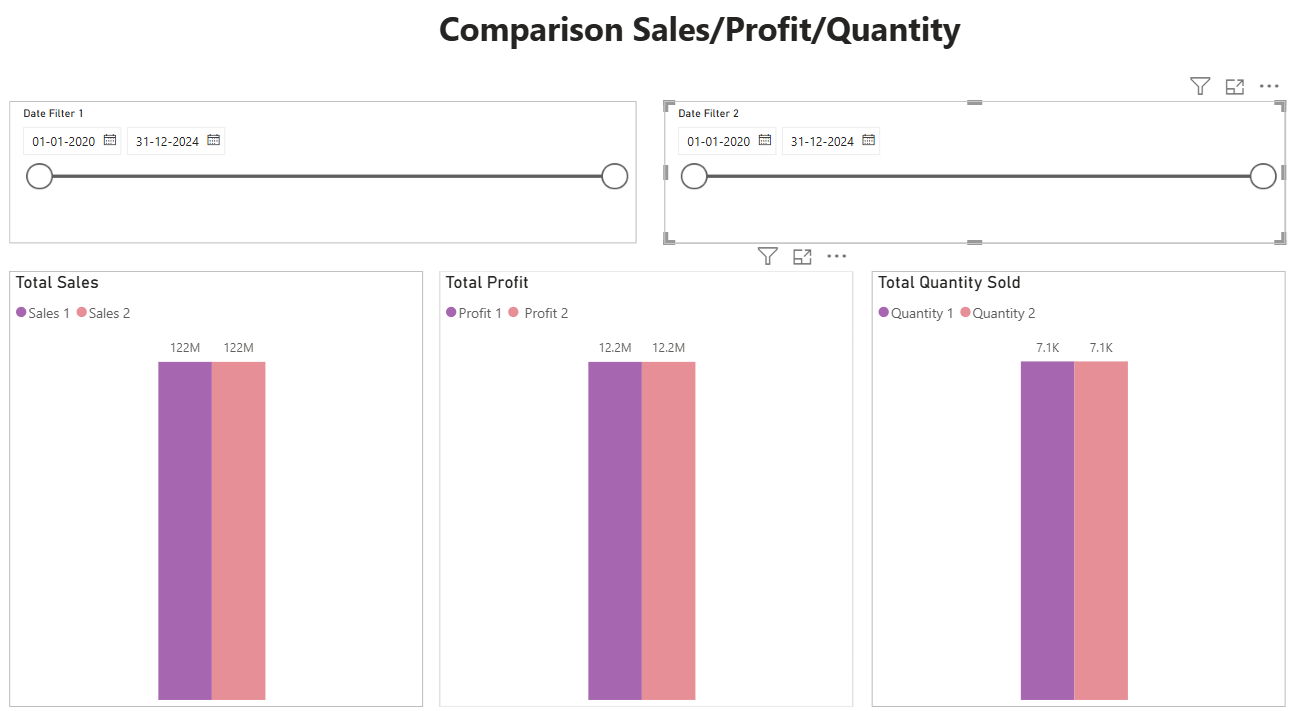

Layout of this report page (visuals, bound fields, positions):
{"tool":"powerbi","page":{"name":"Comparison Sales/Profit/Quantity","canvas":[1280,720],"ordinal":2},"visuals":[{"type":"slicer","fields":{"Values":["Date Table 1.Date"]},"box":[15.9,18.3,613.9,198.1],"z":0},{"type":"slicer","fields":{"Values":["Date Table 2.Date"]},"box":[656.7,18.3,607.7,198.1],"z":1000},{"type":"clusteredColumnChart","title":"Total Profit","fields":{"Y":["Sum(Fact Table.Profit)","Measures Table.Total Profit"]},"box":[436.6,242.1,404.8,458.6],"z":2000},{"type":"clusteredColumnChart","title":"Total Quantity Sold","fields":{"Y":["Sum(Fact Table.Units Sold)","Measures Table.Quantity Sold"]},"box":[859.7,242.1,404.8,458.6],"z":3000},{"type":"clusteredColumnChart","title":"Total Sales","fields":{"Y":["Sum(Fact Table.Net Sales)","Measures Table.Sum of Net Sales"]},"box":[15.9,240.9,404.8,459.8],"z":4000}]}

Visuals, with their boxes in screenshot pixels (x1, y1, x2, y2), scaled from the page's 1280x720 canvas onto the 1289x711 screenshot:
slicer - Date Table 1.Date: pyautogui.locateOnScreen(16, 18, 634, 214)
slicer - Date Table 2.Date: pyautogui.locateOnScreen(661, 18, 1273, 214)
"Total Profit" clusteredColumnChart: pyautogui.locateOnScreen(440, 239, 847, 692)
"Total Quantity Sold" clusteredColumnChart: pyautogui.locateOnScreen(866, 239, 1273, 692)
"Total Sales" clusteredColumnChart: pyautogui.locateOnScreen(16, 238, 424, 692)
